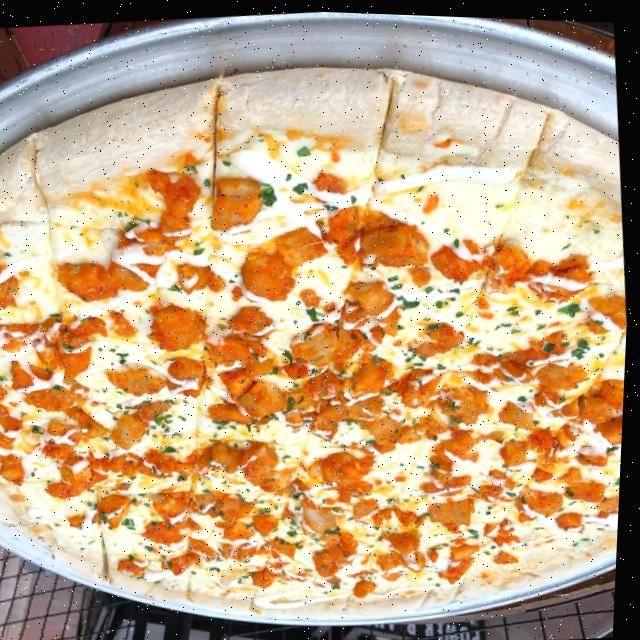pizza: (0, 26, 639, 640)
